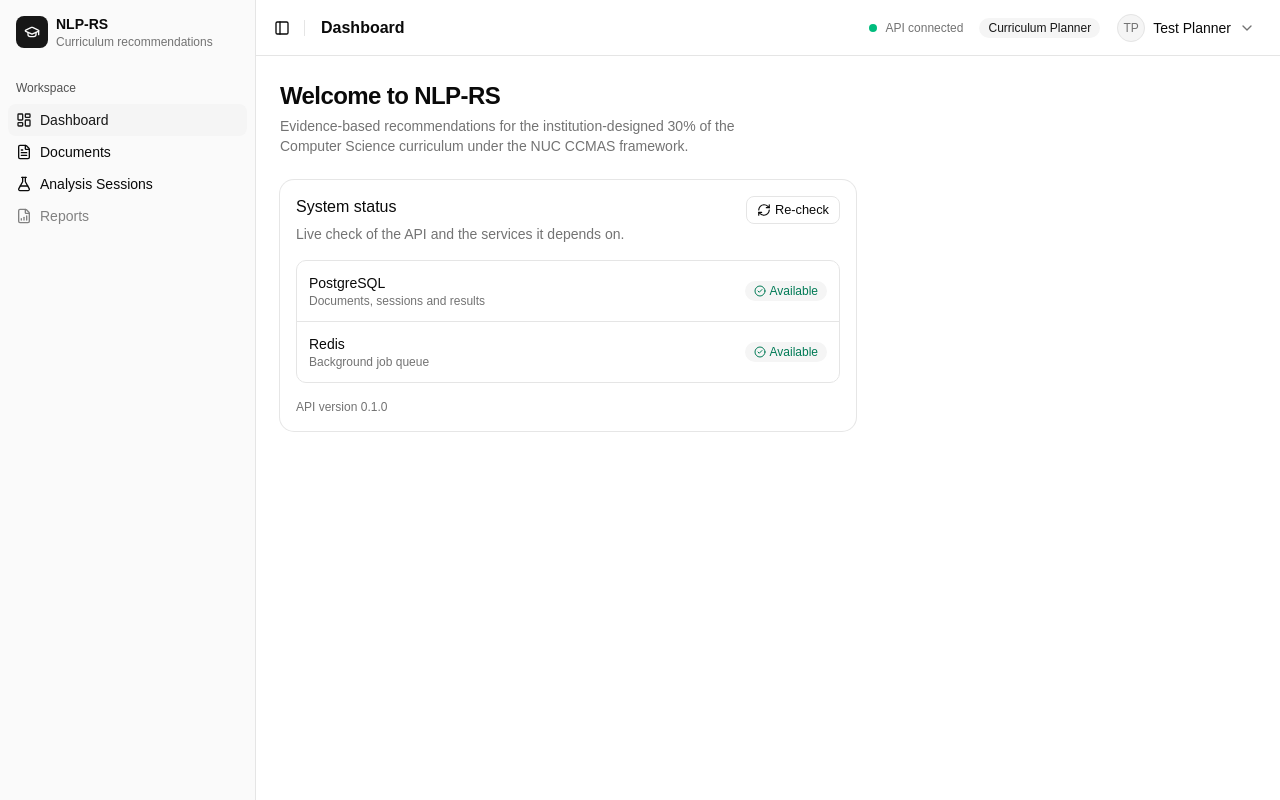
it: AppShell › logs out from the account menu and returns to the login page
Click the button with aria-label "Account menu": (1186, 28) x1=1108 y1=10 x2=1264 y2=46
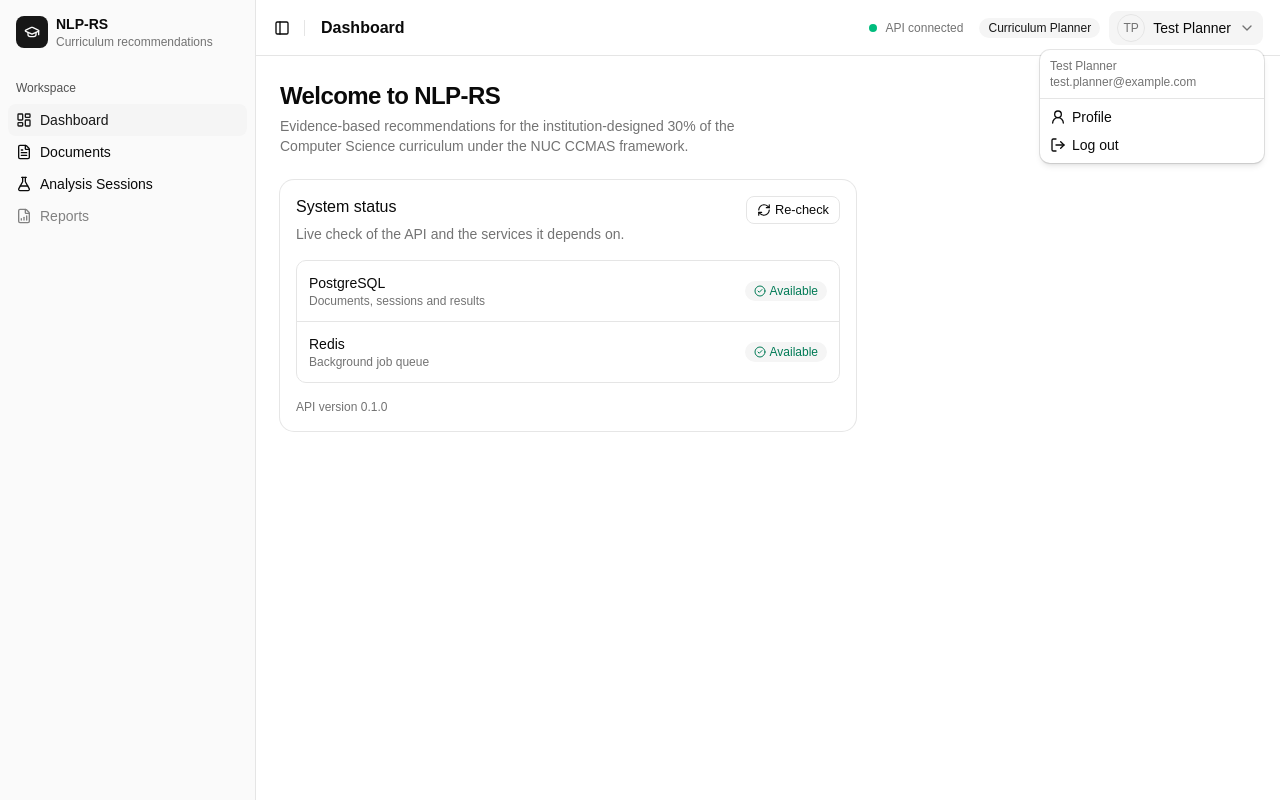
Result: the text "test.planner@example.com" is shown at x1=1050 y1=75 x2=1196 y2=89
Click the menu item "Log out": (1084, 145) x1=1050 y1=137 x2=1119 y2=153
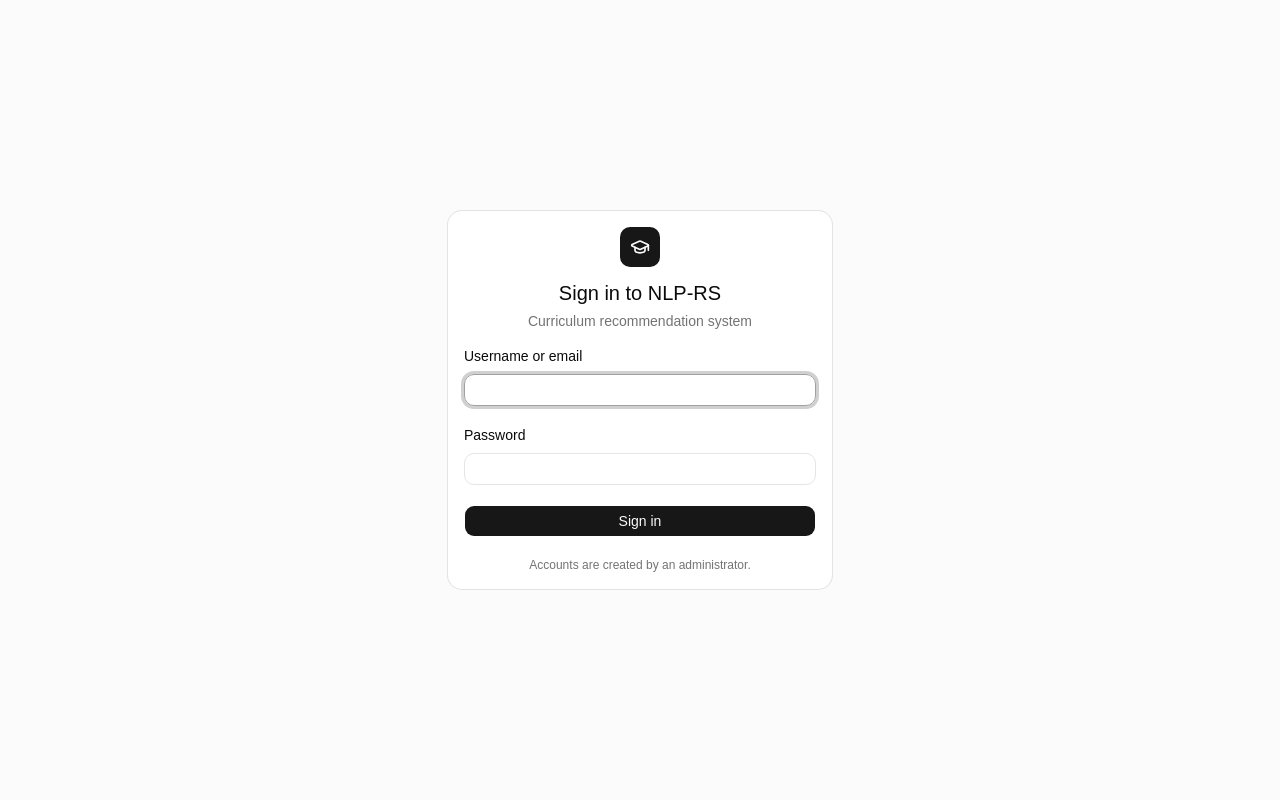
Result: the heading "Sign in to NLP-RS" is shown at x1=559 y1=282 x2=721 y2=304
